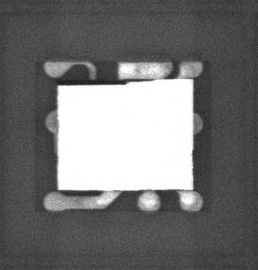DIE_BROKEN: (57, 79, 156, 88)
